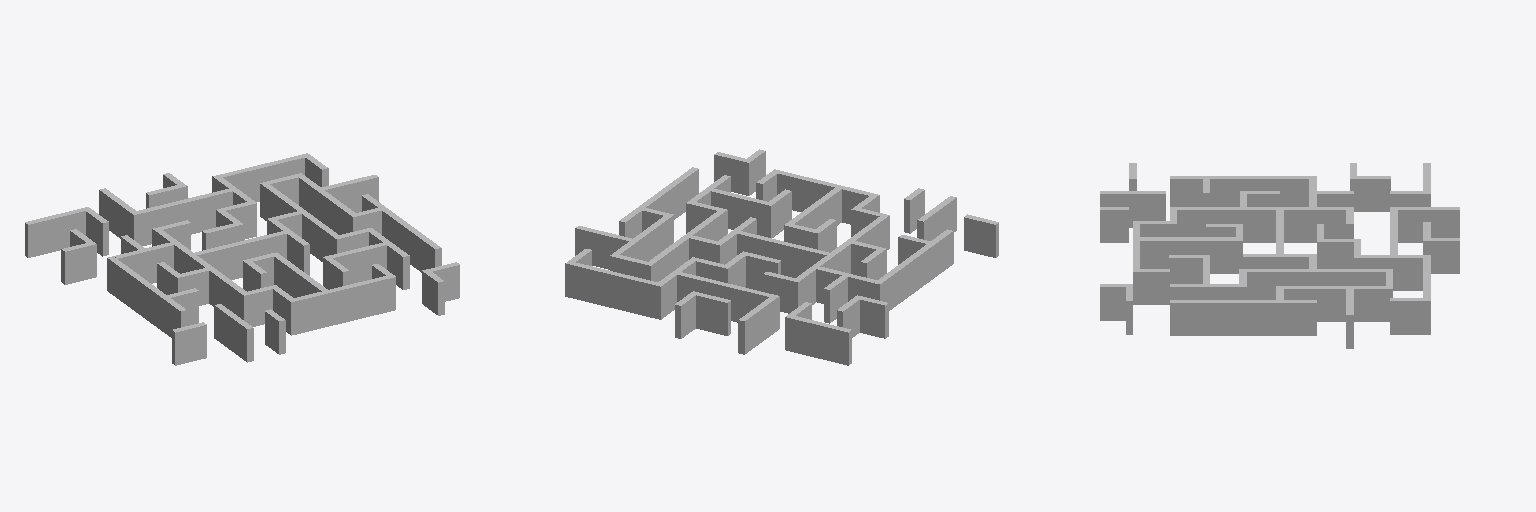
File: bluffTrueWalls.obj
3 renders of one model, left to right at view 1: azimuth 30°, elevation 25°; view 2: azimuth 150°, elevation 25°; view 3: azimuth 270°, elevation 25°, orthographic.
Parts seen in each view (by area): view 1: BluffTrueWalls FW_Real23, BluffTrueWalls, BluffTrueWalls FW_Real16, BluffTrueWalls FW_Real11, BluffTrueWalls FW_Real26, BluffTrueWalls FW_Real17, BluffTrueWalls FW_Real7, BluffTrueWalls FW_Real42, BluffTrueWalls FW_Real43, BluffTrueWalls FW_Real30, BluffTrueWalls FW_Real6, BluffTrueWalls FW_Real31 (+25 smaller); view 2: BluffTrueWalls FW_Real43, BluffTrueWalls, BluffTrueWalls FW_Real7, BluffTrueWalls FW_Real11, BluffTrueWalls FW_Real26, BluffTrueWalls FW_Real17, BluffTrueWalls FW_Real23, BluffTrueWalls FW_Real16, BluffTrueWalls FW_Real42, BluffTrueWalls FW_Real31, BluffTrueWalls FW_Real15, BluffTrueWalls FW_Real30 (+25 smaller); view 3: BluffTrueWalls FW_Real26, BluffTrueWalls FW_Real11, BluffTrueWalls, BluffTrueWalls FW_Real34, BluffTrueWalls FW_Real30, BluffTrueWalls FW_Real42, BluffTrueWalls FW_Real15, BluffTrueWalls FW_Real45, BluffTrueWalls FW_Real6, BluffTrueWalls FW_Real33, BluffTrueWalls FW_Real44, FW_Real2 BluffTrueWalls (+11 smaller).
Part boxes in pixels (x1,y1,x2,y2): BluffTrueWalls FW_Real23: (294, 276, 389, 333); BluffTrueWalls: (107, 256, 186, 337); BluffTrueWalls FW_Real16: (137, 189, 232, 245); BluffTrueWalls FW_Real11: (152, 227, 250, 324); BluffTrueWalls FW_Real26: (362, 194, 441, 272); BluffTrueWalls FW_Real17: (195, 231, 286, 279); BluffTrueWalls FW_Real7: (25, 207, 91, 257); BluffTrueWalls FW_Real42: (260, 182, 337, 261); BluffTrueWalls FW_Real43: (212, 153, 310, 201); BluffTrueWalls FW_Real30: (295, 173, 354, 234); BluffTrueWalls FW_Real6: (214, 304, 253, 362); BluffTrueWalls FW_Real31: (323, 243, 386, 287); BluffTrueWalls FW_Real43: (565, 261, 664, 319); BluffTrueWalls: (874, 229, 953, 310); BluffTrueWalls FW_Real7: (785, 314, 851, 365); BluffTrueWalls FW_Real11: (792, 214, 889, 310); BluffTrueWalls FW_Real26: (619, 167, 698, 238); BluffTrueWalls FW_Real17: (737, 231, 828, 277); BluffTrueWalls FW_Real23: (777, 171, 872, 224); BluffTrueWalls FW_Real16: (677, 272, 772, 322); BluffTrueWalls FW_Real42: (645, 211, 723, 281); BluffTrueWalls FW_Real31: (711, 189, 774, 237); BluffTrueWalls FW_Real15: (738, 294, 779, 354); BluffTrueWalls FW_Real30: (610, 216, 670, 271); BluffTrueWalls FW_Real26: (1170, 300, 1316, 335); BluffTrueWalls FW_Real11: (1170, 207, 1353, 242); BluffTrueWalls: (1170, 176, 1316, 206); BluffTrueWalls FW_Real34: (1140, 237, 1242, 273); BluffTrueWalls FW_Real30: (1284, 286, 1392, 321); BluffTrueWalls FW_Real42: (1247, 269, 1392, 299); BluffTrueWalls FW_Real15: (1390, 207, 1459, 242); BluffTrueWalls FW_Real45: (1354, 255, 1422, 290); BluffTrueWalls FW_Real6: (1100, 191, 1165, 227); BluffTrueWalls FW_Real33: (1133, 269, 1169, 304); BluffTrueWalls FW_Real44: (1390, 298, 1422, 334); FW_Real2 BluffTrueWalls: (1357, 176, 1390, 211).
Bounding box in the file's own units: 9.8 × 1 × 9.8.